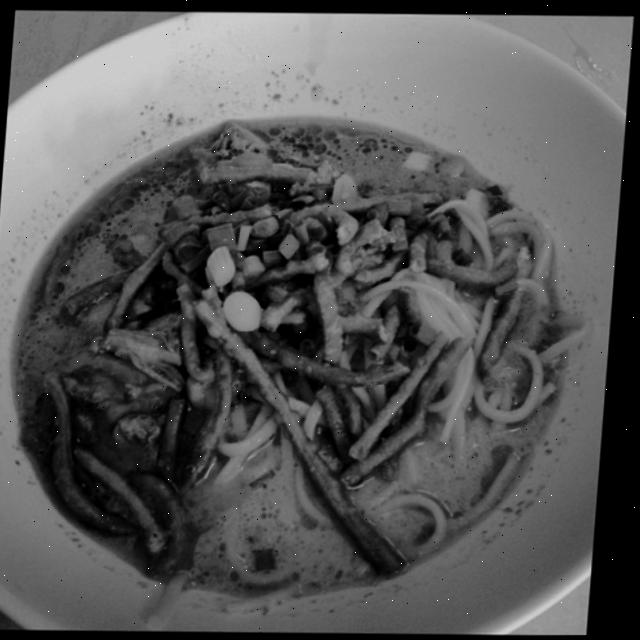面条主食: (53, 104, 554, 606)
